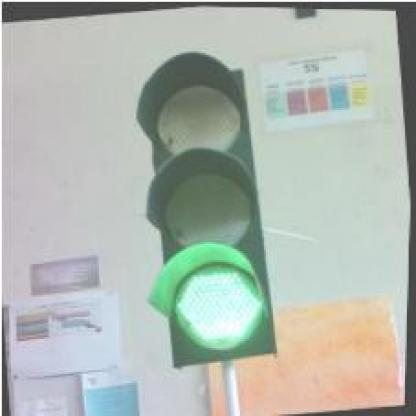green: (121, 42, 290, 370)
